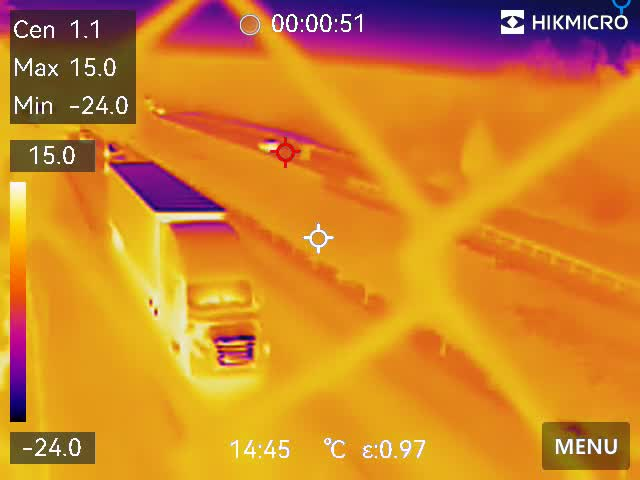heavyTruck: (101, 157, 268, 383)
vehicle: (257, 137, 285, 153)
